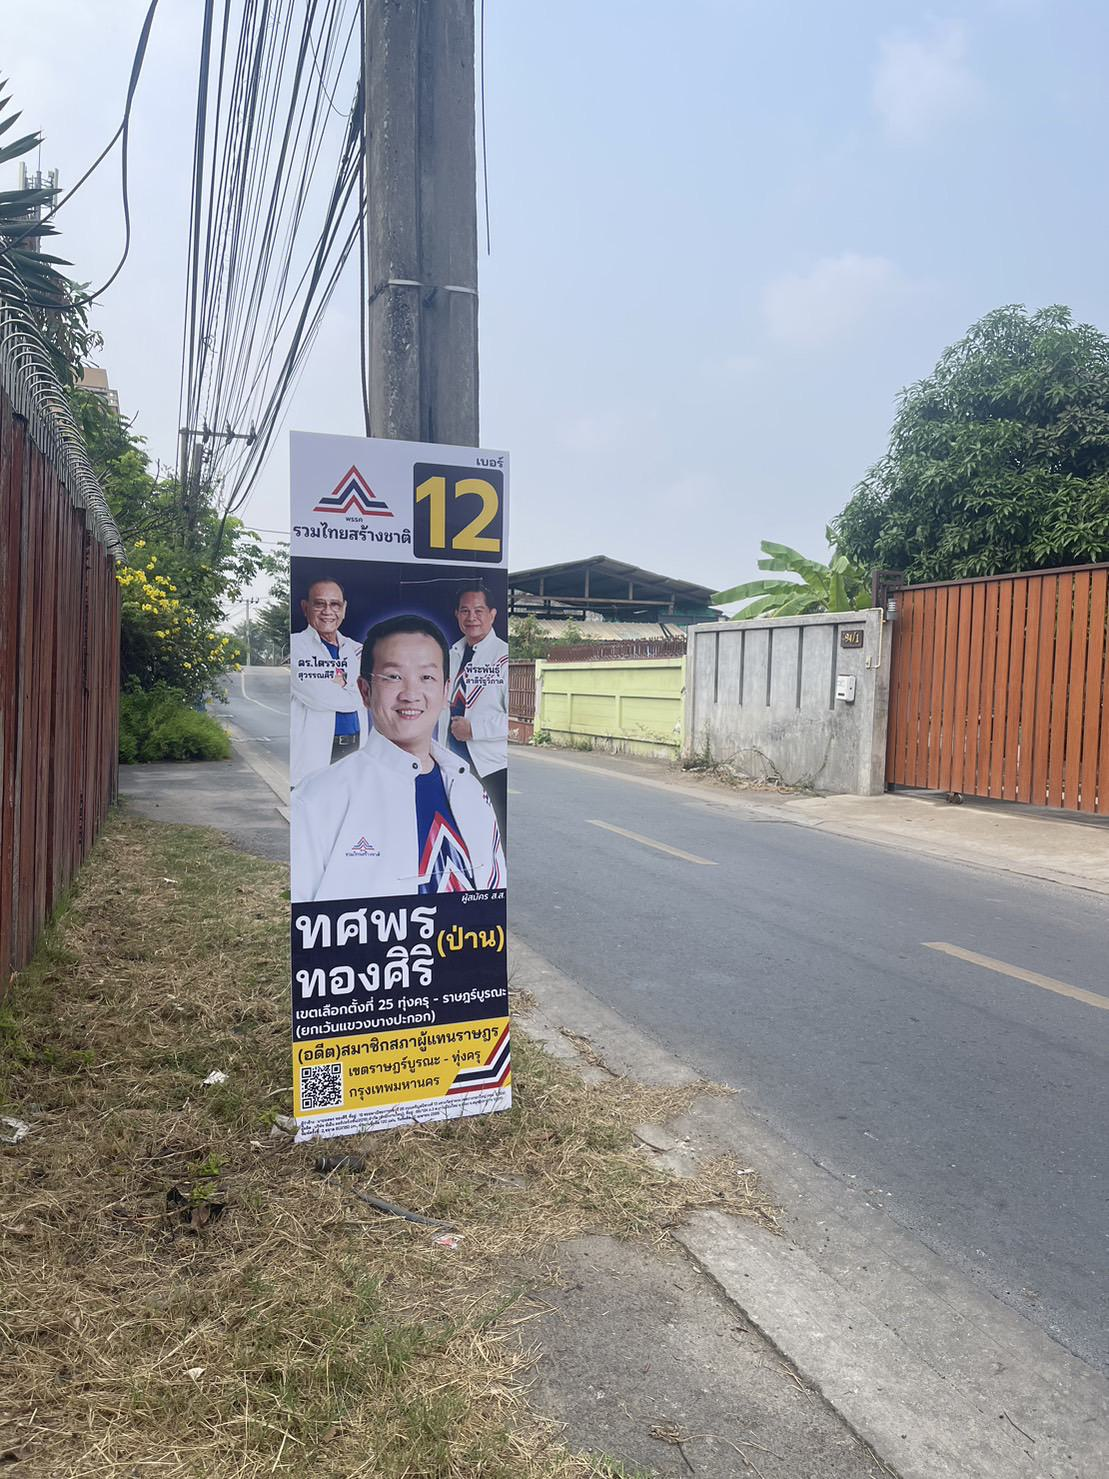Banner: (294, 437, 520, 1172)
